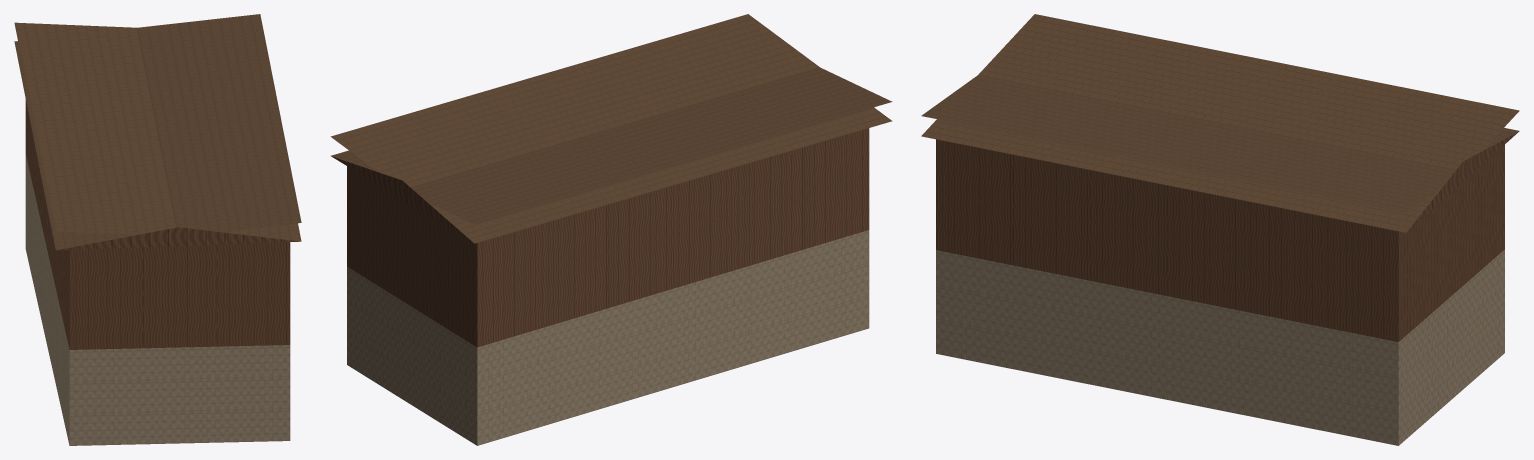
The model's file is bld_c16_44_449.gltf.
3 renders of one model, left to right at view 1: azimuth 30°, elevation 25°; view 2: azimuth 150°, elevation 25°; view 3: azimuth 270°, elevation 25°, orthographic. The views are drawn at different scales.
Visible parts, largest first — view 1: bld_c16_44_449; view 2: bld_c16_44_449; view 3: bld_c16_44_449.
Boxes of the visible parts, x1,y1,x2,y2 form: bld_c16_44_449: [14, 14, 301, 445]; bld_c16_44_449: [330, 14, 892, 445]; bld_c16_44_449: [921, 14, 1519, 445].
Size of the model in its own units: 20.93 by 11.8 by 26.68.
4 materials, 4 textured.
